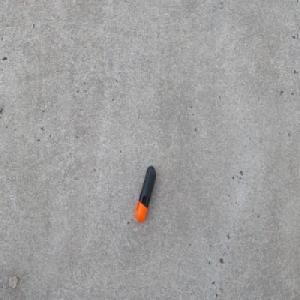PlasticPart: (134, 165, 156, 223)
